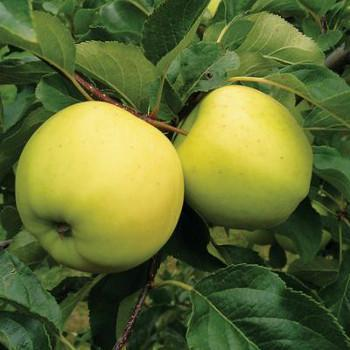apple: (12, 101, 187, 269), (179, 86, 316, 232)
